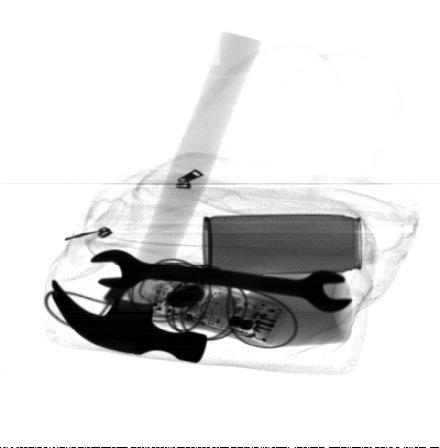Hammer: (52, 31, 263, 363)
Wrench: (89, 250, 354, 313)
